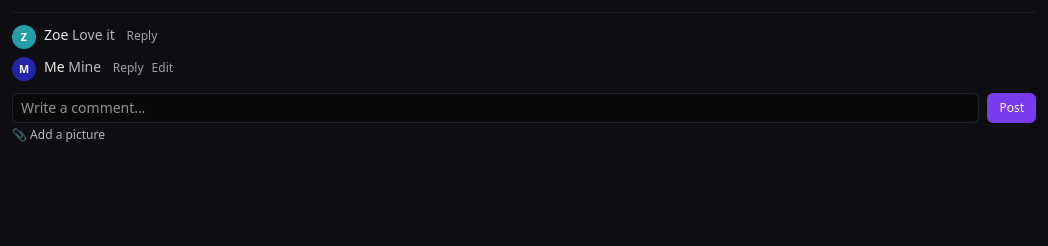
Test case: PostCommentList › offers Edit only on your own comments, and saves the change with an (edited) mark
Expected: the text "Love it" is shown, [72,25,115,44]
Click the button with aria-label "Edit your comment" at (162, 68), box [152,60,173,76]
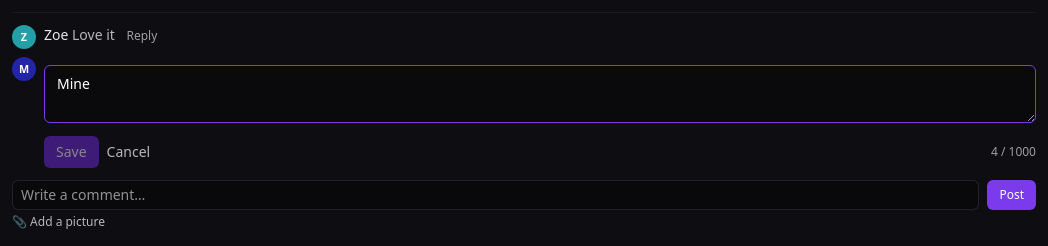
Replace the text in the text box named "Edit comment" with "Mine, changed" at (540, 94), box [44,65,1036,123]
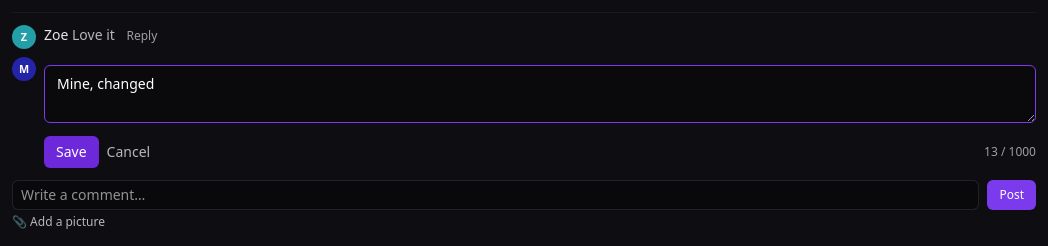
Click the button "Save" at (71, 152), box [44,136,99,168]
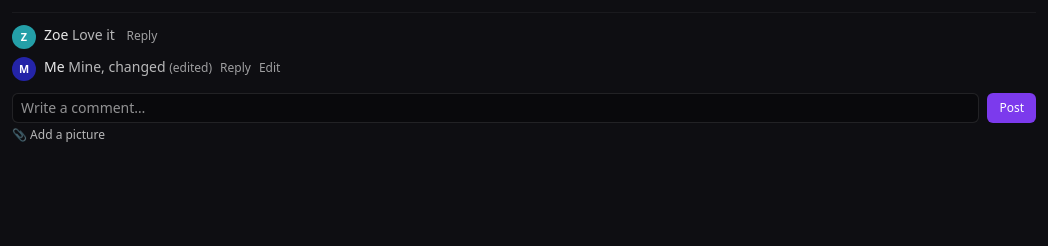
Expected: the text "Mine, changed" is shown, [68,57,166,76]
Expected: the text "(edited)" is shown, [169,59,212,76]
